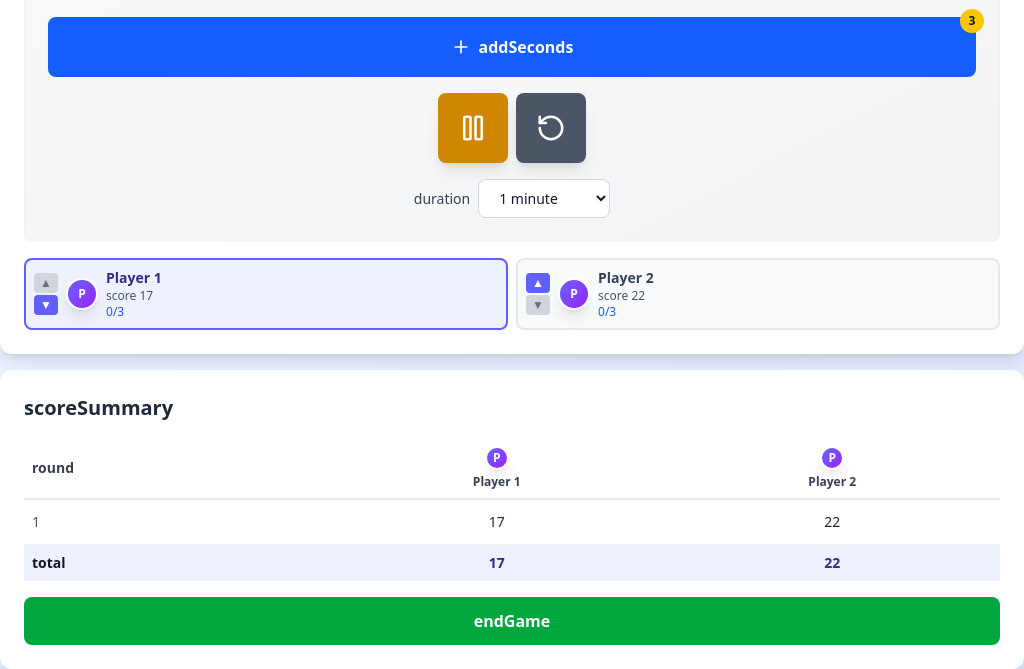
Scenario: ActiveGameView › closes edit input on blur
(page scrolled)
Note: Click on a past score to edit it
Click the text "17".
click(497, 522)  # box [489,512,505,531]
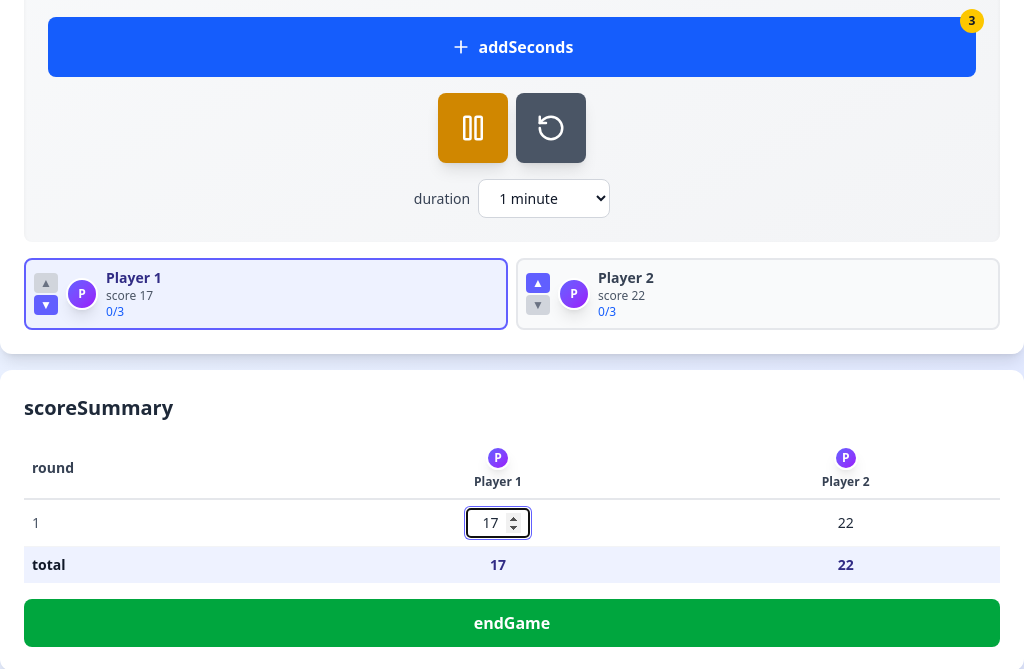
Leave the number field, box [466,508,530,538]
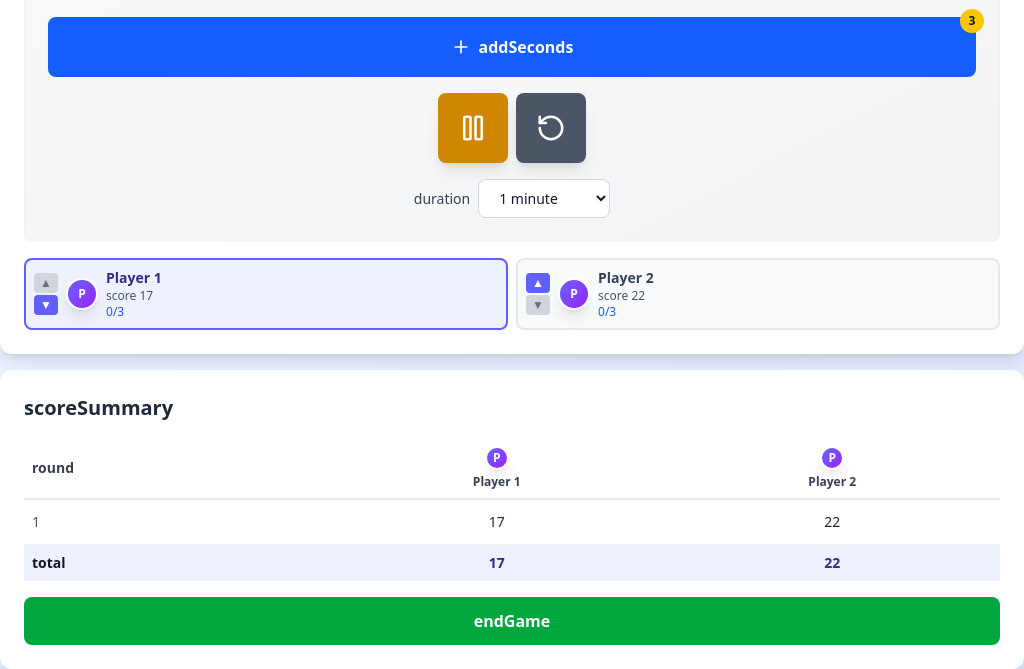
Expected: the text "17" is shown, [489,512,505,531]
